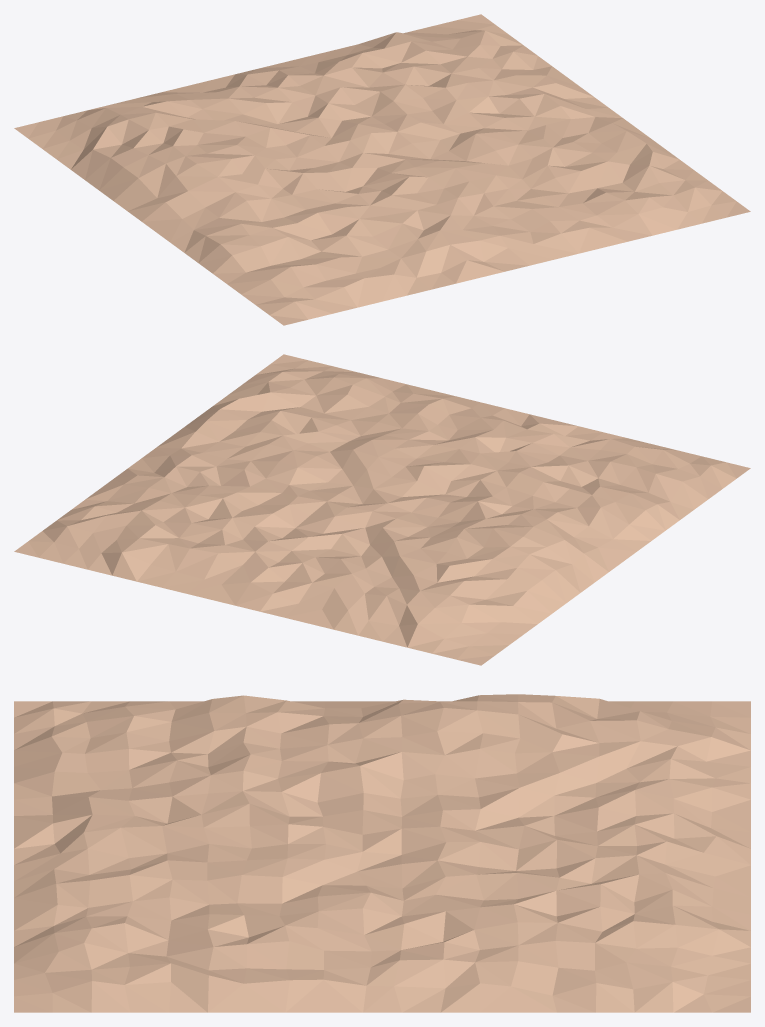
The model's file is marine-biome-top.glb.
3 views of the same model, one above another, from view 1: azimuth 30°, elevation 25°; view 2: azimuth 150°, elevation 25°; view 3: azimuth 270°, elevation 25° (orthographic). The views are drawn at different scales.
Parts seen in each view (by area): view 1: Landscape-TOP; view 2: Landscape-TOP; view 3: Landscape-TOP.
Part boxes in pixels (x1,y1,x2,y2): Landscape-TOP: [14, 14, 750, 325]; Landscape-TOP: [14, 354, 750, 665]; Landscape-TOP: [14, 694, 750, 1012].
Bounding box in the file's own units: 2 × 0.1208 × 2.
